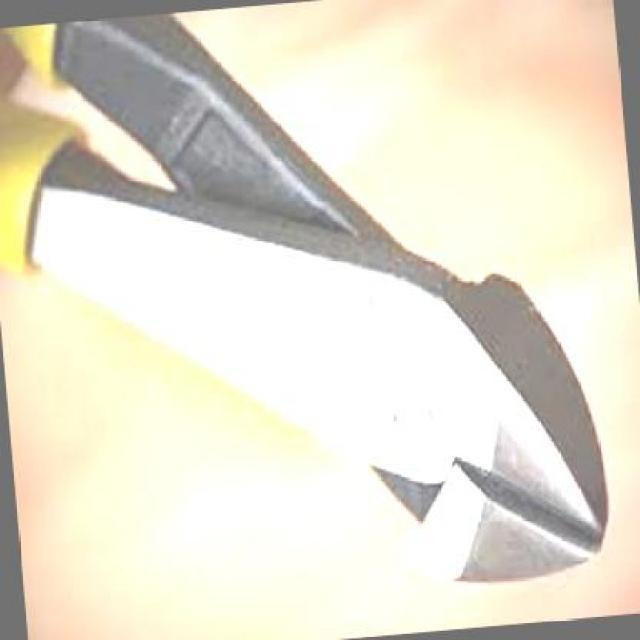pliers: (0, 0, 629, 637)
